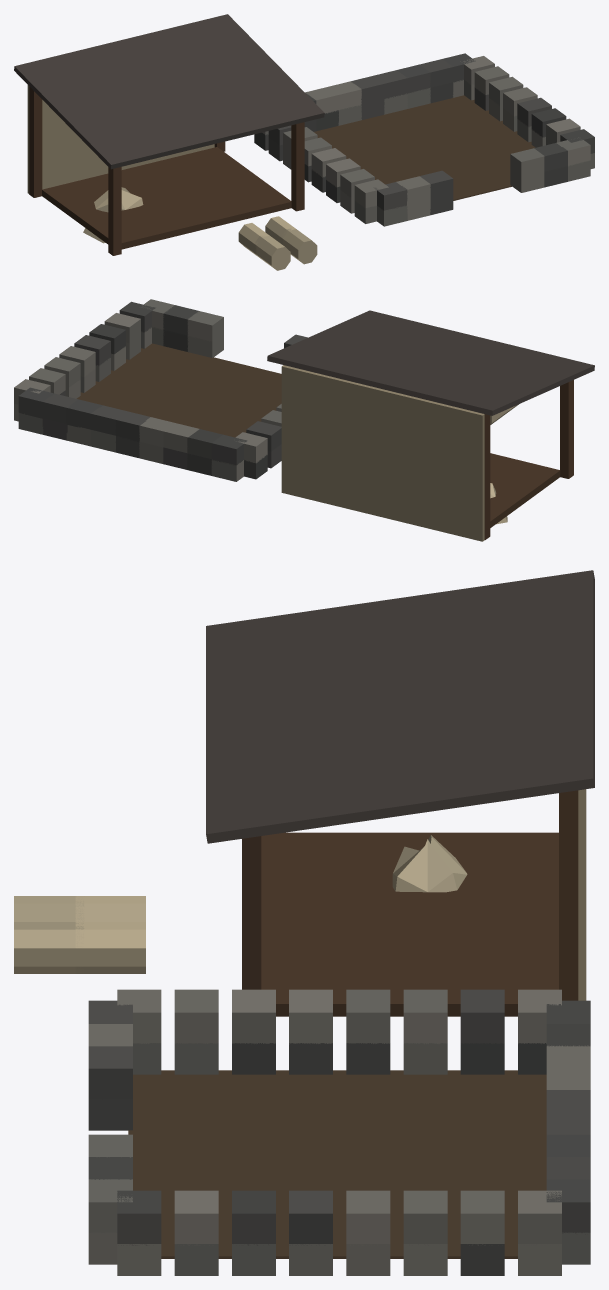
The model's file is walk_hallowed_fold.glb.
3 renders of one model, top to bottom at view 1: azimuth 30°, elevation 25°; view 2: azimuth 150°, elevation 25°; view 3: azimuth 270°, elevation 25°, orthographic. The views are drawn at different scales.
Visible parts, largest first — view 1: walk_hallowed_fold, walk_hallowed_fold_roof; view 2: walk_hallowed_fold, walk_hallowed_fold_roof; view 3: walk_hallowed_fold, walk_hallowed_fold_roof.
Part boxes in pixels (x1,y1,x2,y2): walk_hallowed_fold: [27, 53, 594, 270]; walk_hallowed_fold_roof: [14, 14, 324, 169]; walk_hallowed_fold: [14, 299, 573, 541]; walk_hallowed_fold_roof: [267, 310, 594, 415]; walk_hallowed_fold: [14, 789, 590, 1275]; walk_hallowed_fold_roof: [206, 570, 594, 843].
Size of what is drawn, in the model's own units: 12.11 by 3.72 by 6.6.
Materials: 1 (1 with a texture image).
